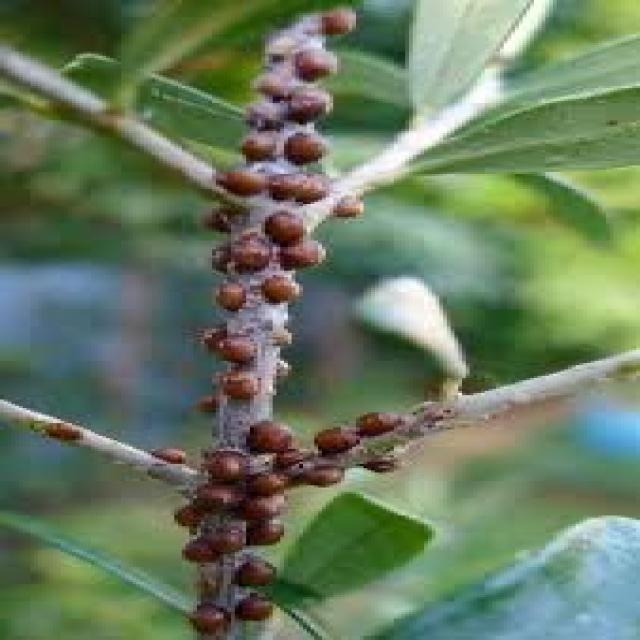BlackScale: (201, 9, 352, 416), (175, 412, 402, 638), (148, 446, 186, 466), (333, 193, 360, 214)
